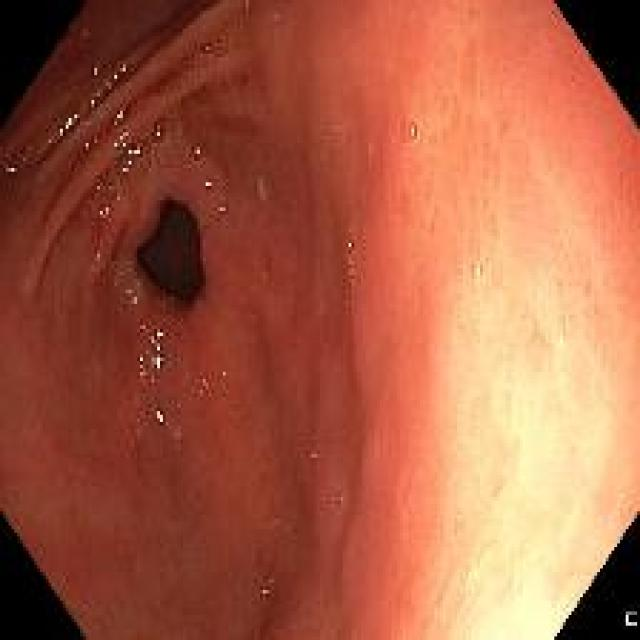bubbles: (340, 231, 360, 309), (118, 138, 151, 184), (399, 110, 423, 152), (151, 104, 174, 142), (258, 576, 275, 609), (470, 253, 487, 285), (327, 110, 343, 142), (308, 441, 324, 467), (276, 285, 292, 311), (334, 487, 349, 512), (197, 37, 215, 56), (362, 138, 377, 159), (188, 140, 204, 159), (178, 52, 195, 67), (215, 199, 230, 216), (80, 28, 88, 38)
contrast: (136, 197, 205, 302)
saturation: (430, 292, 636, 639)
specularity: (137, 319, 166, 384), (46, 110, 82, 146), (104, 65, 129, 89), (195, 372, 210, 403), (4, 156, 23, 179), (85, 90, 105, 110), (154, 406, 167, 433), (110, 110, 129, 127), (96, 199, 110, 220), (78, 137, 91, 154), (201, 174, 213, 192), (88, 61, 101, 77), (408, 123, 415, 137), (93, 254, 101, 263), (478, 262, 482, 279), (132, 297, 139, 306), (334, 122, 340, 132), (124, 286, 131, 294), (347, 267, 354, 275), (108, 182, 113, 190), (346, 241, 351, 249), (95, 185, 100, 192)
